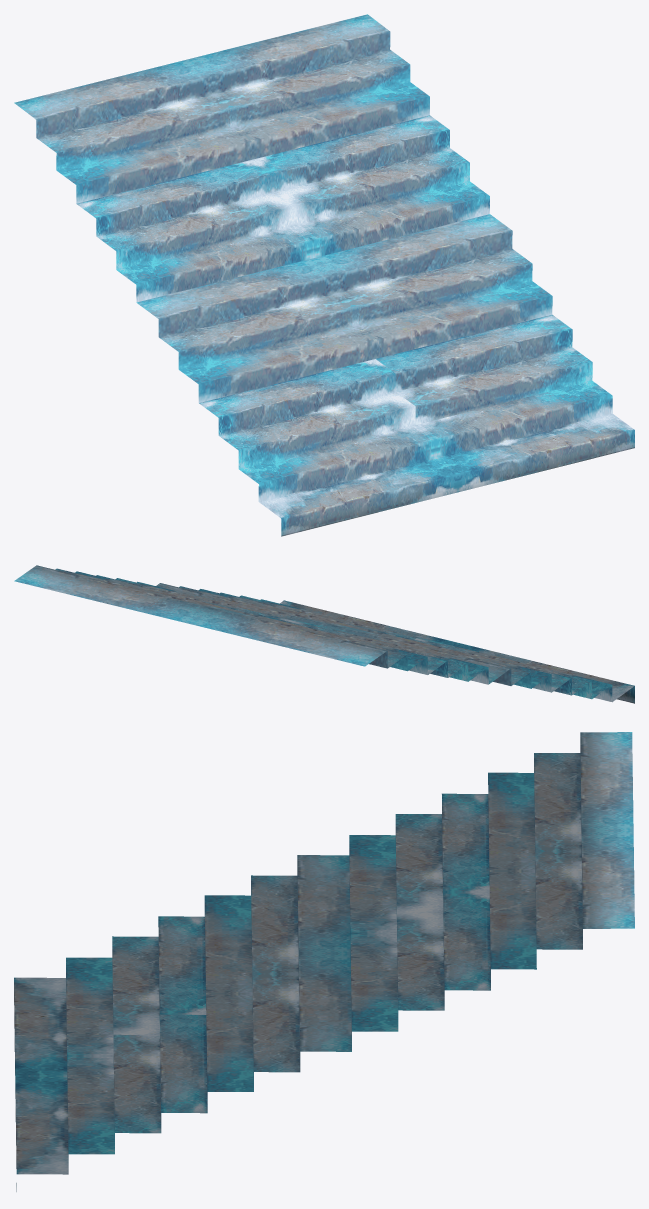
The model's file is 5015_Item_louti_1.FBX.
3 renders of one model, top to bottom at view 1: azimuth 30°, elevation 25°; view 2: azimuth 150°, elevation 25°; view 3: azimuth 270°, elevation 25°, orthographic. The views are drawn at different scales.
Visible parts, largest first — view 1: 5015_Item_louti_1; view 2: 5015_Item_louti_1; view 3: 5015_Item_louti_1.
Part boxes in pixels (x1=…): 5015_Item_louti_1: x1=14, y1=14, x2=634, y2=536; 5015_Item_louti_1: x1=14, y1=565, x2=634, y2=703; 5015_Item_louti_1: x1=14, y1=732, x2=634, y2=1191.
Bounding box in the file's own units: 830 × 522 × 1091.
